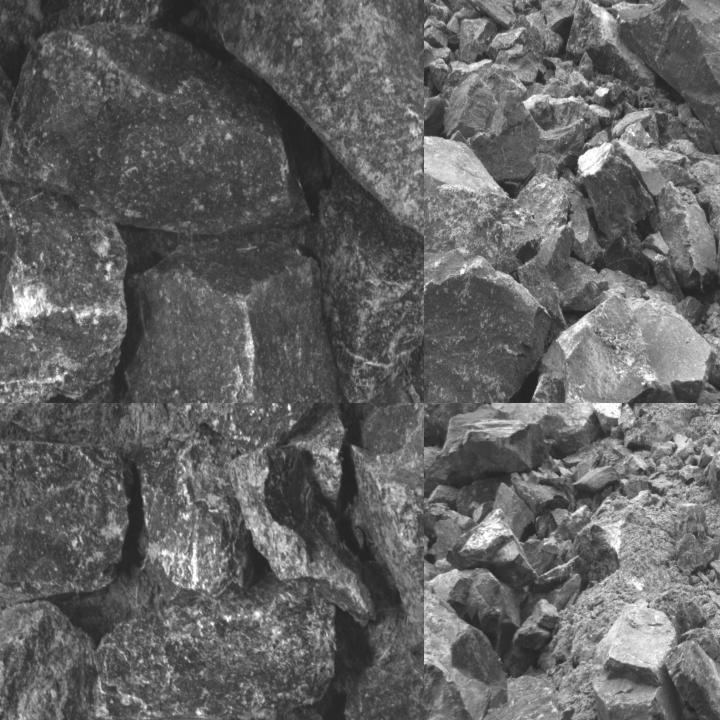stone: (0, 18, 309, 237), (203, 0, 423, 252), (124, 233, 423, 402), (93, 579, 339, 719), (0, 166, 128, 402), (0, 440, 130, 653), (229, 440, 375, 624), (127, 403, 249, 598), (313, 189, 423, 402), (424, 248, 546, 402), (609, 0, 719, 166), (0, 595, 144, 719), (350, 404, 423, 638), (538, 295, 656, 402), (469, 89, 586, 192), (424, 404, 549, 497), (424, 185, 541, 276), (594, 603, 683, 719), (424, 581, 508, 703), (135, 403, 356, 448), (623, 297, 715, 402), (567, 0, 661, 89), (344, 617, 423, 719), (577, 140, 655, 242), (657, 183, 719, 293), (452, 510, 534, 586), (424, 128, 508, 201), (490, 403, 600, 458), (0, 403, 129, 448), (450, 572, 528, 645), (433, 675, 562, 719), (290, 403, 347, 500), (0, 0, 213, 24), (665, 639, 719, 719), (424, 655, 489, 719), (446, 71, 496, 137), (495, 480, 535, 542), (505, 369, 566, 402), (539, 223, 576, 277), (458, 16, 500, 62), (532, 555, 581, 593), (424, 570, 471, 608), (428, 518, 463, 564), (676, 537, 719, 573), (462, 0, 517, 28), (539, 0, 578, 39), (672, 505, 710, 542), (574, 465, 620, 494), (512, 616, 551, 650), (703, 453, 719, 523), (593, 403, 622, 434), (530, 600, 560, 628), (508, 0, 550, 16), (679, 465, 707, 486), (697, 444, 717, 468), (710, 559, 719, 588)
